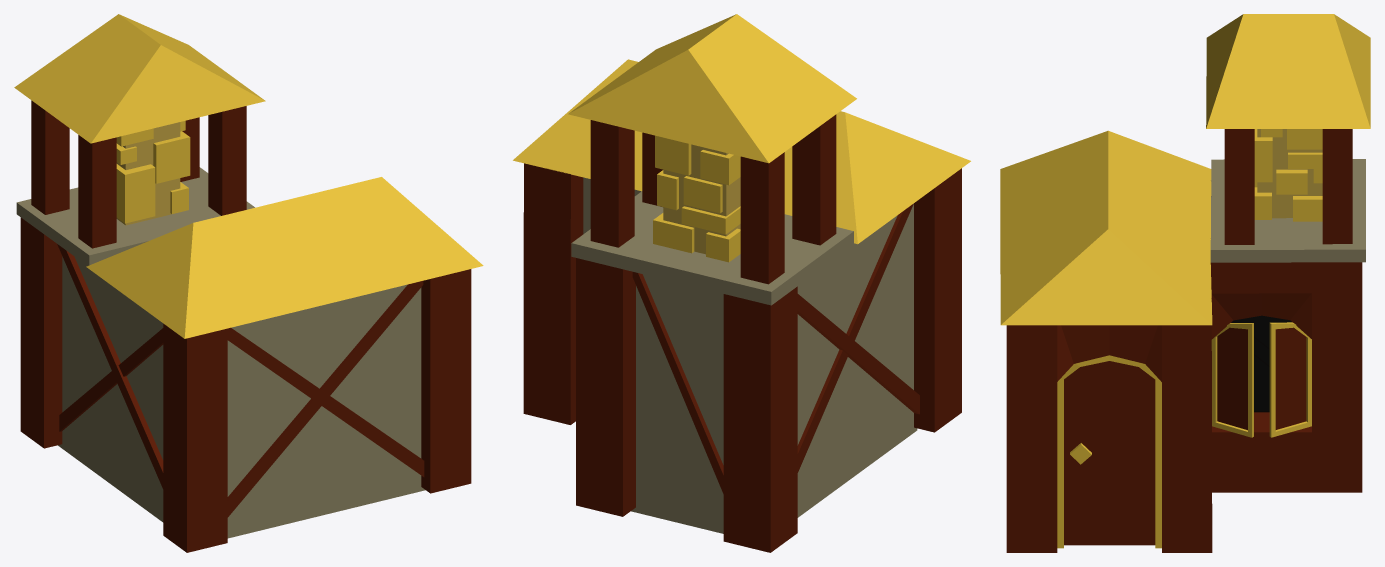
Rendered from Human-Bank.fbx.
The picture shows the model from 3 angles, left to right: view 1: azimuth 30°, elevation 25°; view 2: azimuth 150°, elevation 25°; view 3: azimuth 270°, elevation 25°; orthographic projection. The views are drawn at different scales.
Parts seen in each view (by area): view 1: Human-Bank; view 2: Human-Bank; view 3: Human-Bank.
Boxes of the visible parts, box(x1,y1,x2,y2) form: Human-Bank: box(14, 14, 483, 552); Human-Bank: box(513, 14, 970, 552); Human-Bank: box(1000, 14, 1370, 552).
Bounding box in the file's own units: 0.8854 × 0.8869 × 1.16.
